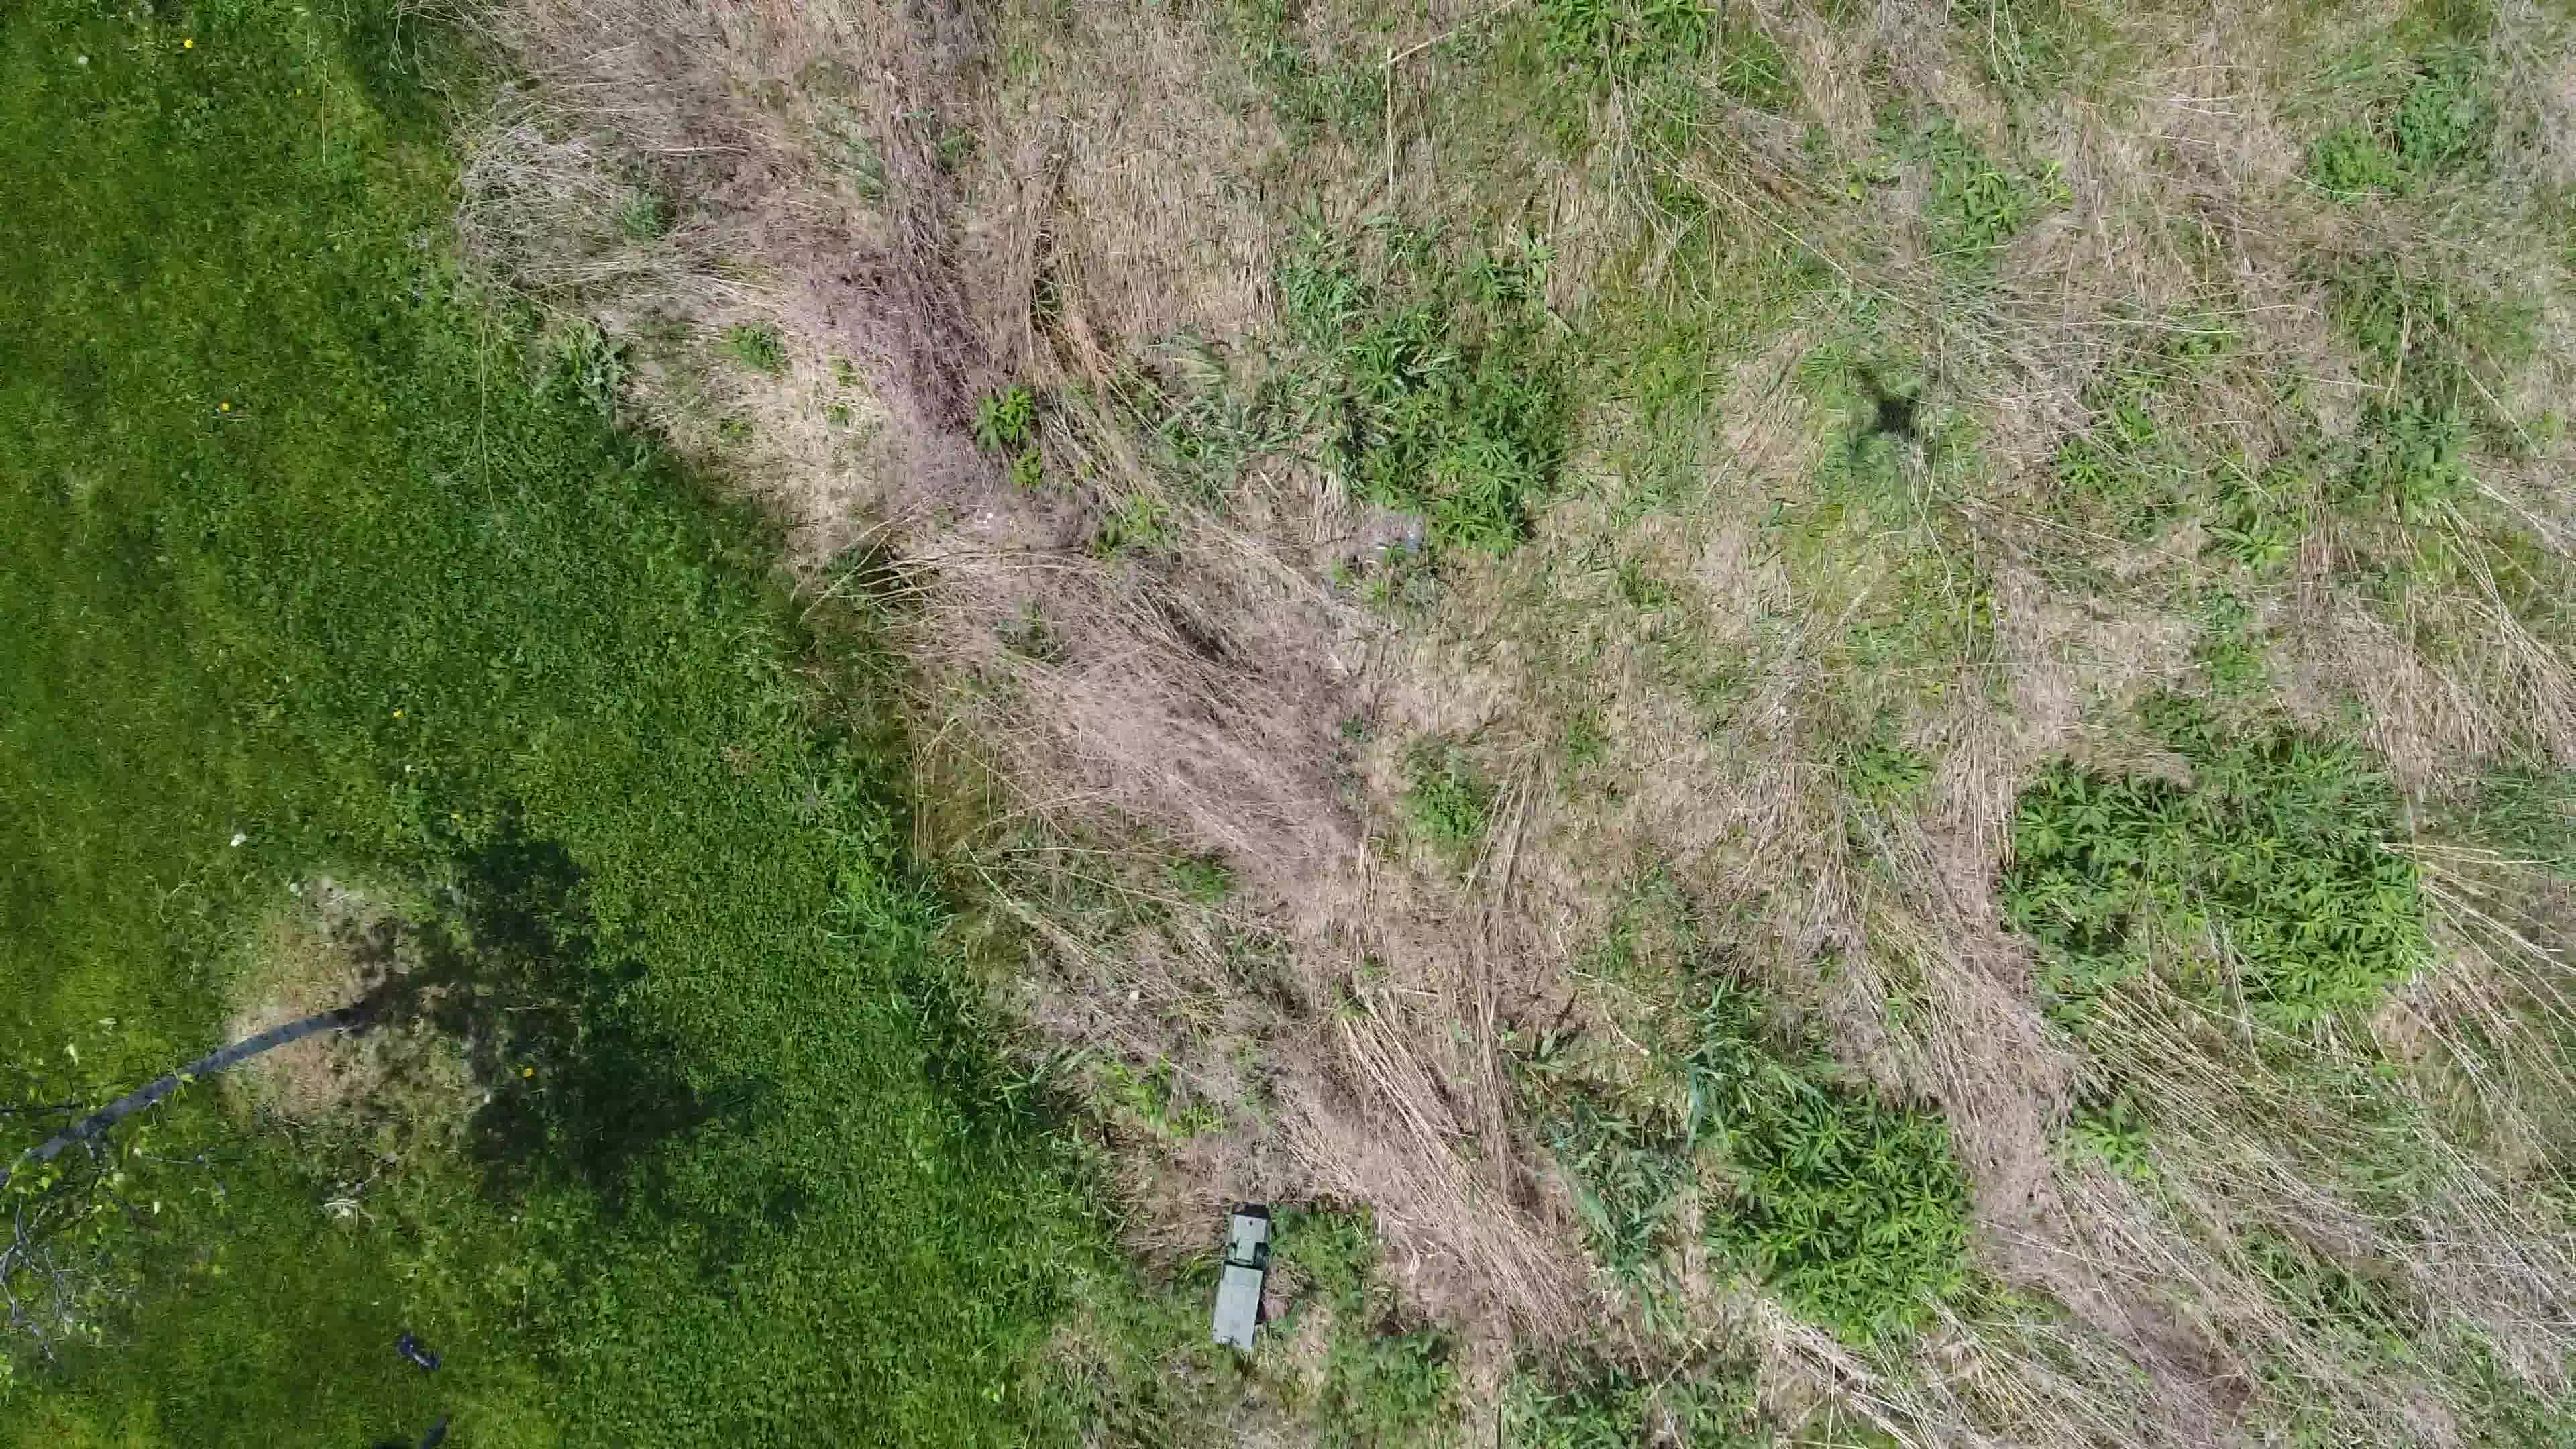transporter9: (1208, 1208, 1274, 1355)
